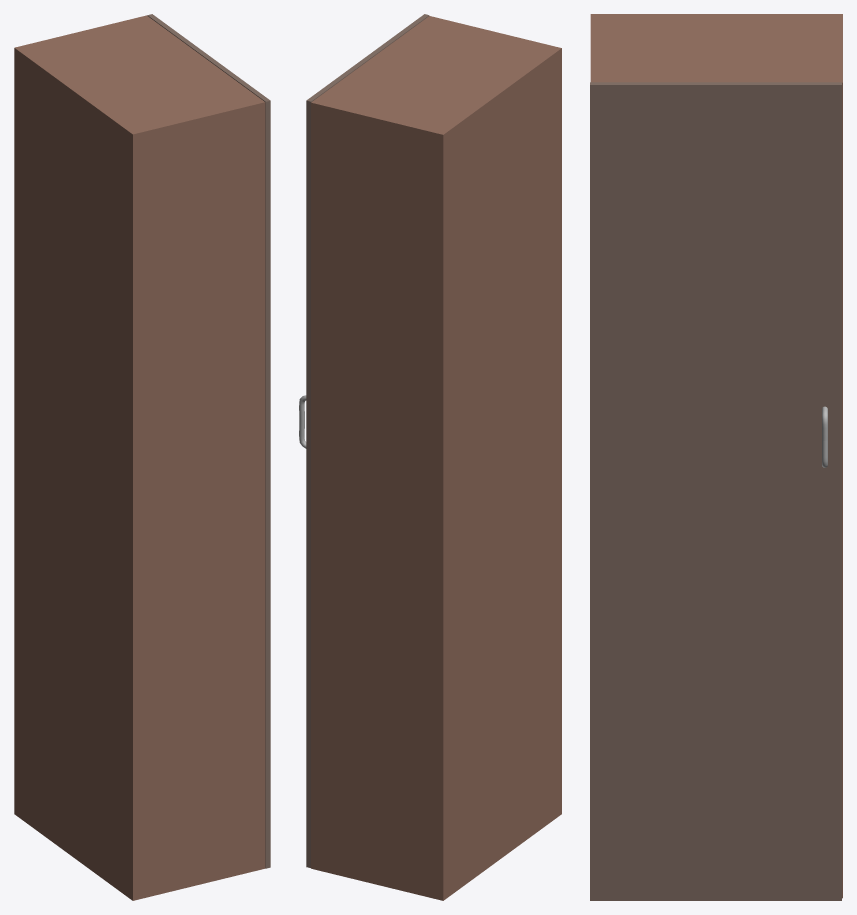
Rendered from Storage Brown Cabinets.fbx.
The picture shows the model from 3 angles, left to right: view 1: azimuth 30°, elevation 25°; view 2: azimuth 150°, elevation 25°; view 3: azimuth 270°, elevation 25°; orthographic projection. The views are drawn at different scales.
Visible parts, largest first — view 1: pCube93, pCube97; view 2: pCube93, pCube97; view 3: pCube97, pCube93.
Part boxes in pixels (x1,y1,x2,y2): pCube93: [14, 15, 265, 900]; pCube97: [147, 14, 270, 868]; pCube93: [311, 16, 561, 900]; pCube97: [306, 14, 429, 867]; pCube97: [590, 82, 841, 900]; pCube93: [590, 14, 842, 898].
Size of the model in its own units: 2.11 by 10.14 by 2.85.
